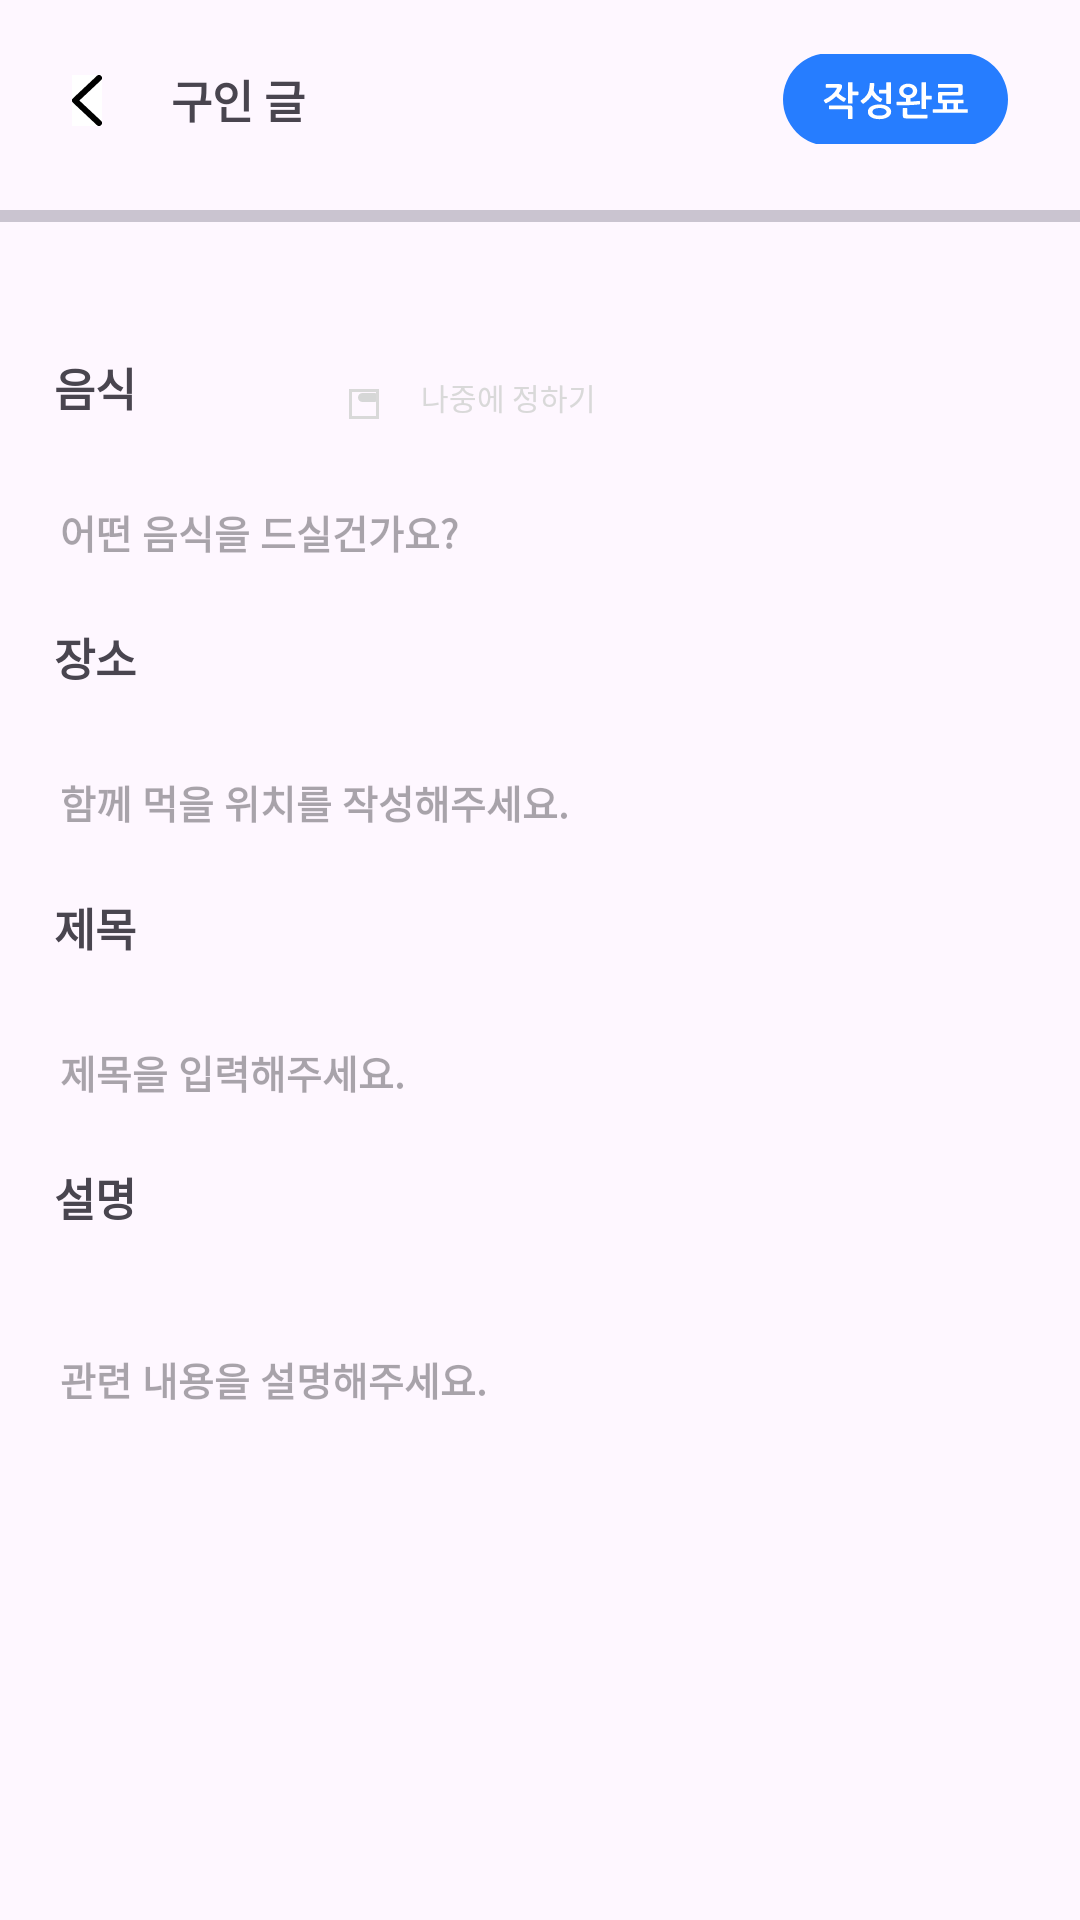

Named icons in this screenshot (1080*1920) and their centers, point (x, y):
back: point (87, 100)
not checkbox: point (364, 404)
